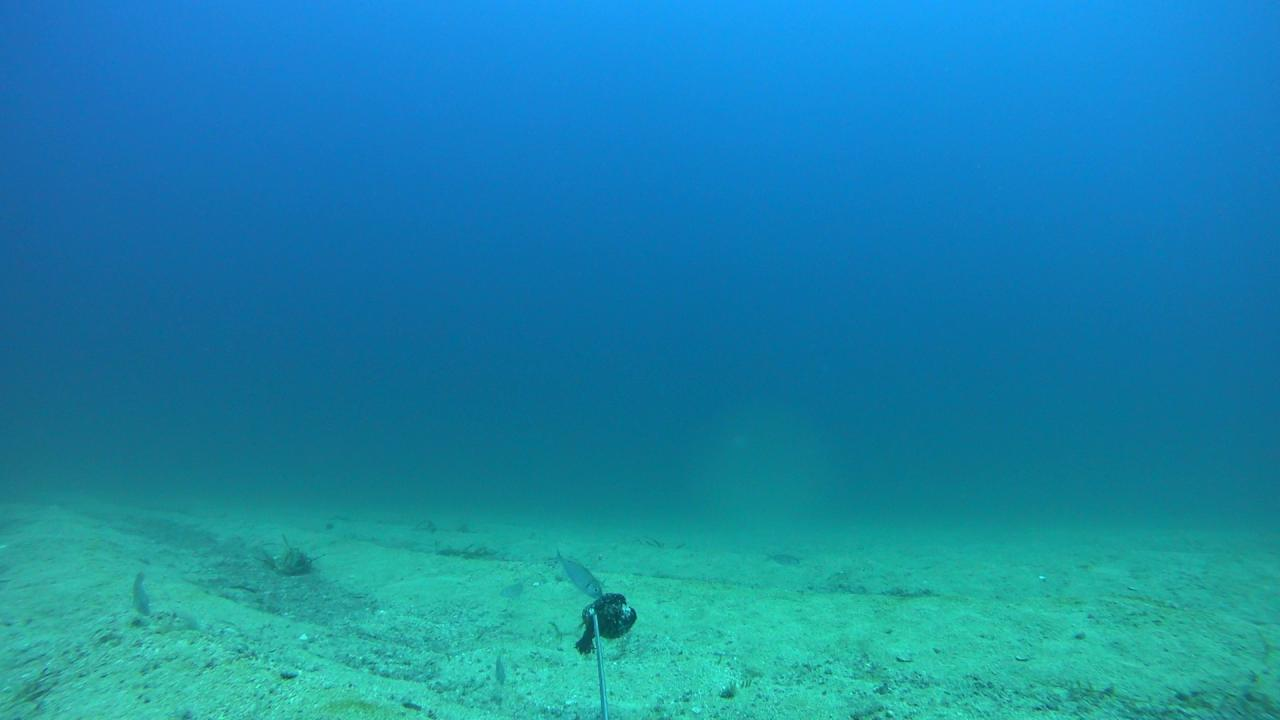pagellus: (552, 546, 601, 598), (762, 548, 798, 567)
